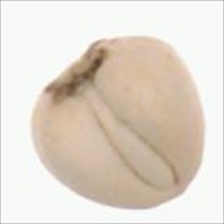L5: (82, 83, 180, 193), (39, 36, 115, 107)
L6: (29, 36, 206, 211)
